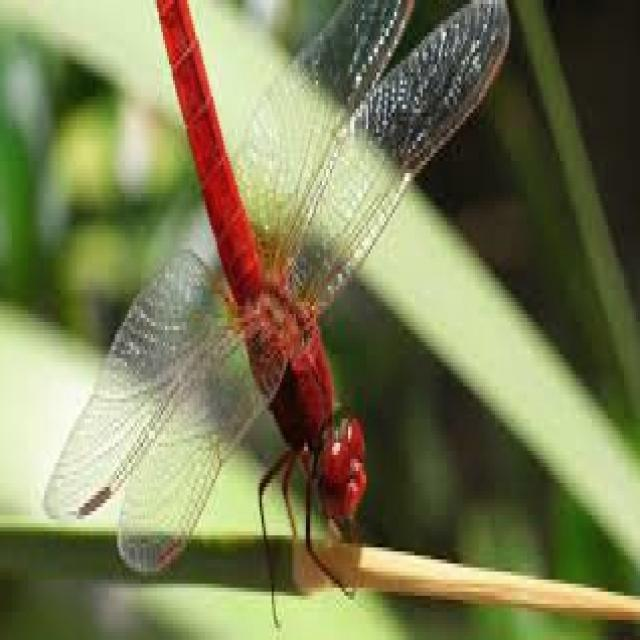dragonfly: (48, 0, 509, 588)
